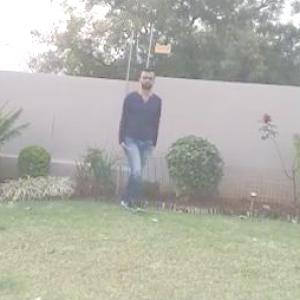follow: (111, 68, 159, 218)
